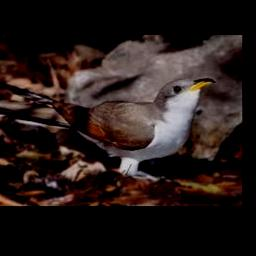Cuckoo: (0, 78, 216, 178)
